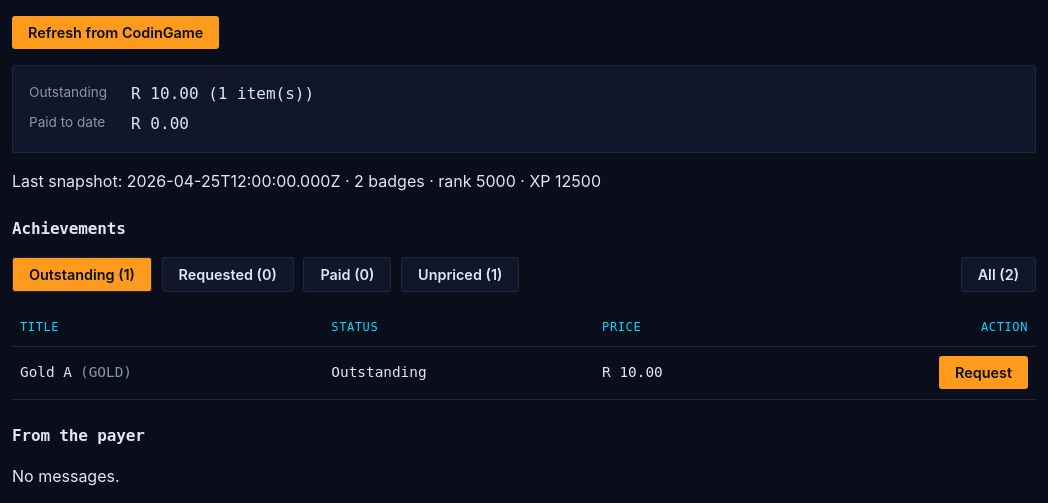
it: PlayerView › renders outstanding-by-default and lets you filter
expect the text "Gold A" is shown: met, box [20,364,72,380]
# Bronze B is unpriced — switch filter to see it.
Click the button "Unpriced (1)": (460, 275) [401,257,519,292]
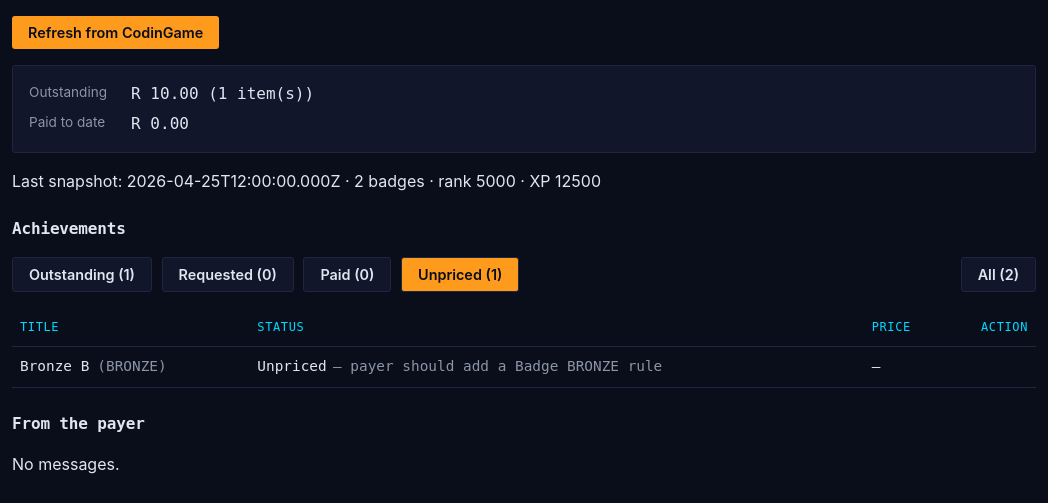
expect the text "Bronze B" is shown: met, box [20,358,89,374]
